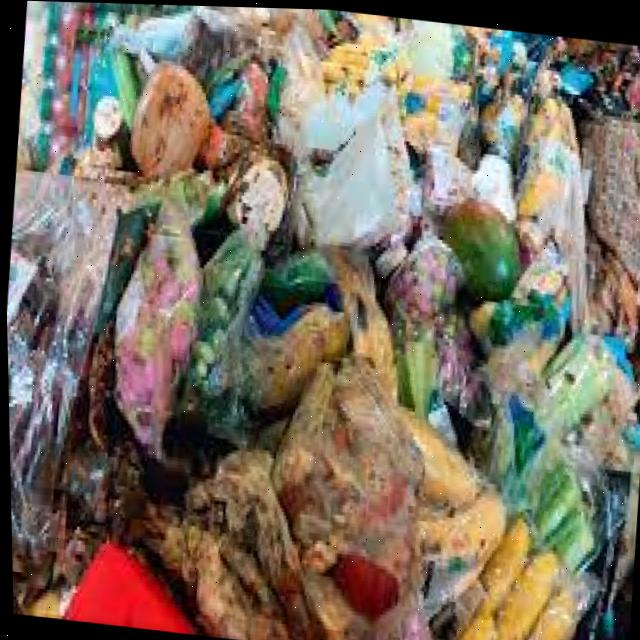Wet: (0, 0, 640, 640), (91, 150, 246, 488), (259, 379, 407, 577), (115, 38, 241, 181), (440, 141, 542, 306)
